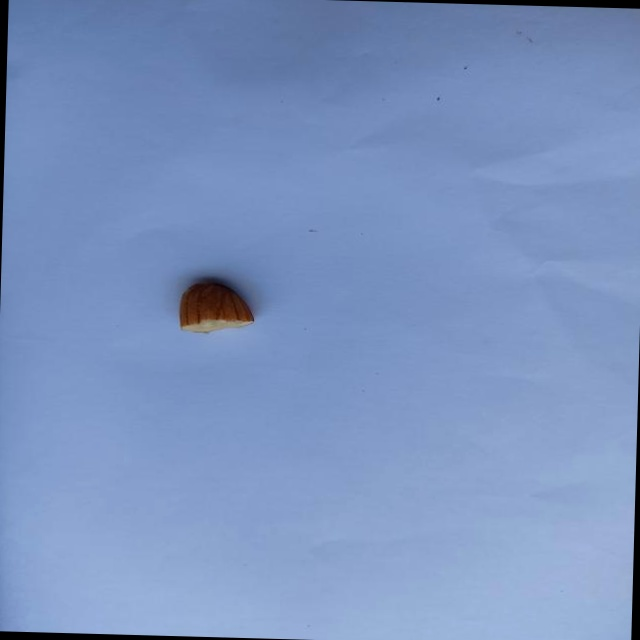grade4: (171, 274, 264, 339)
